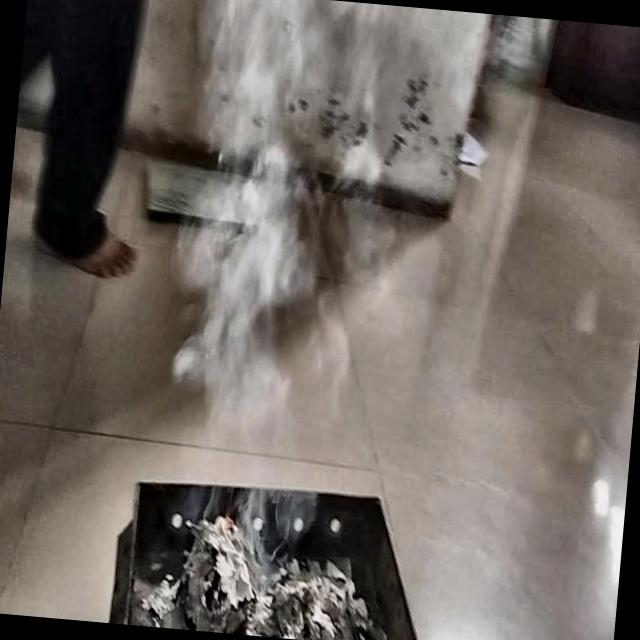smoke: (131, 0, 440, 640)
